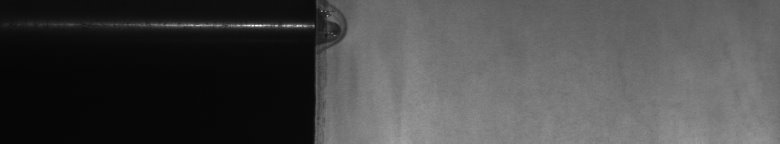hb: (324, 4, 356, 126)
